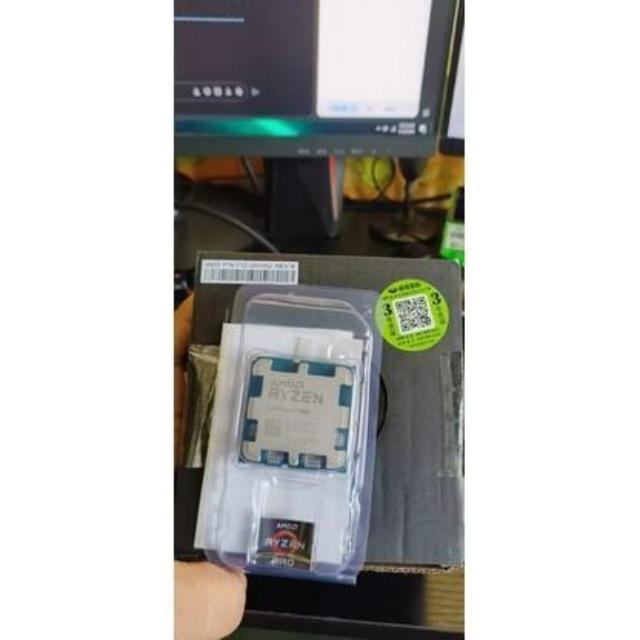CPU: (238, 351, 356, 478)
